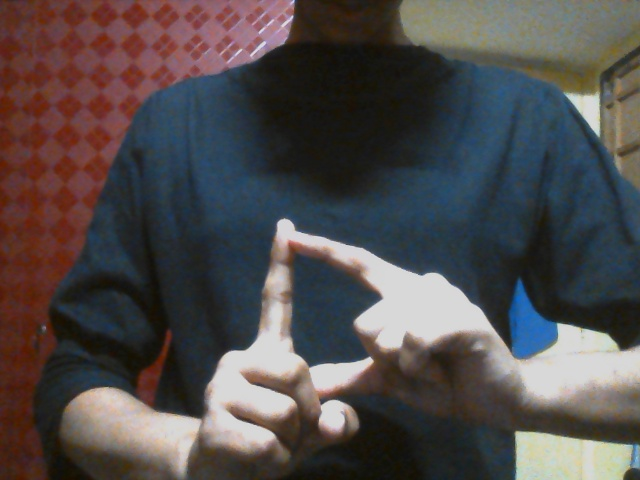D: (191, 217, 500, 480)
